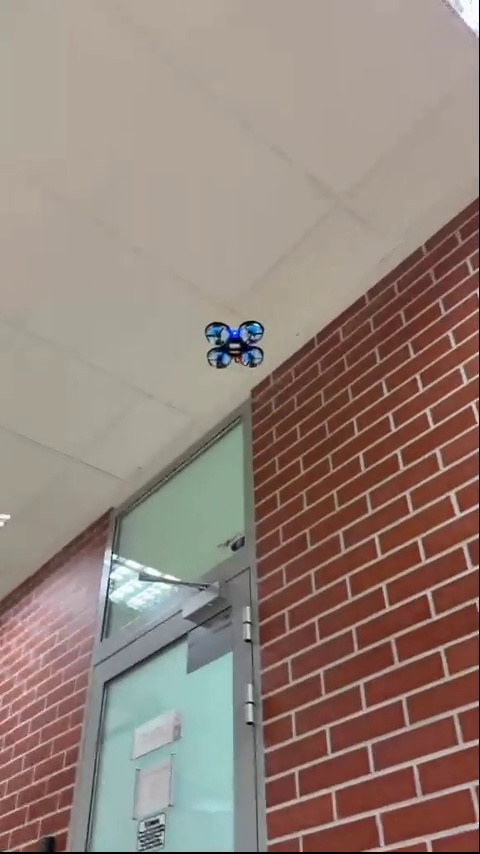drone: (203, 321, 265, 369)
